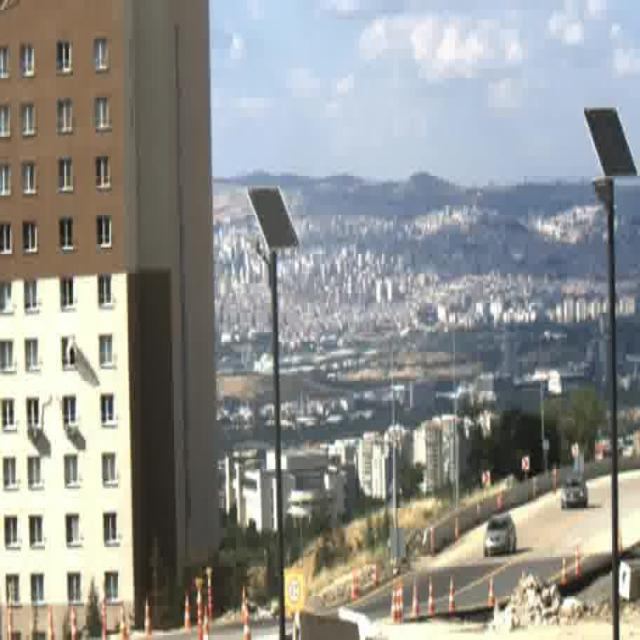Car: (484, 519, 516, 555), (559, 479, 587, 508)
